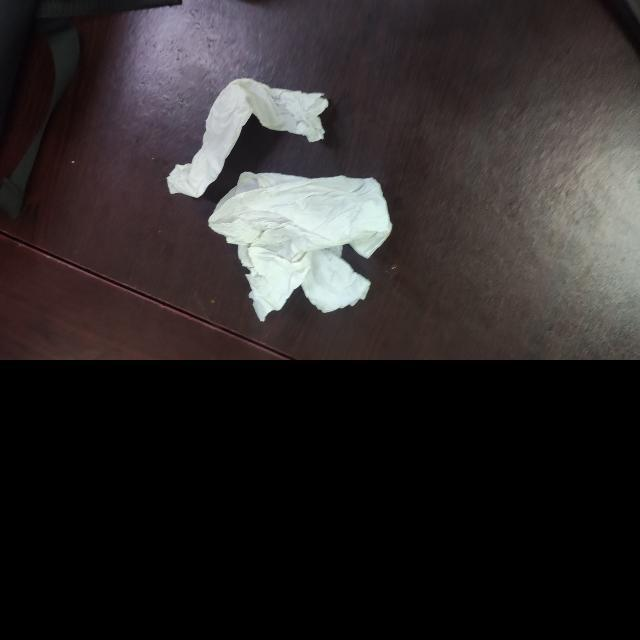kitchen paper: (209, 170, 393, 320), (167, 75, 330, 200)
